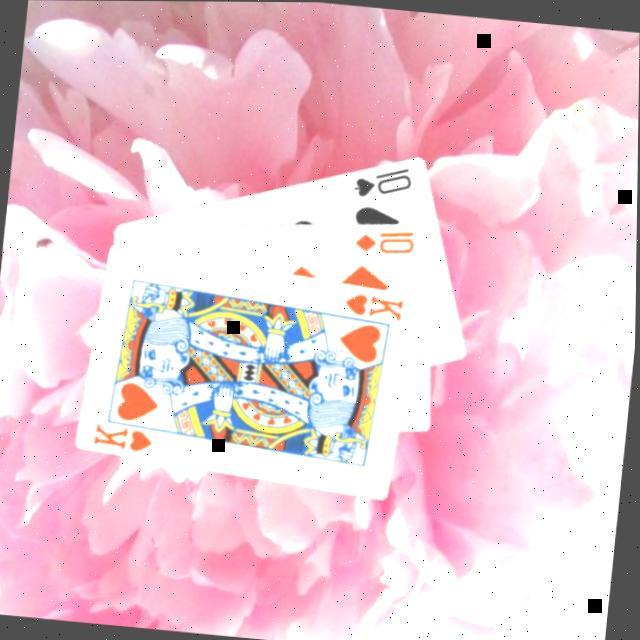10D: (353, 222, 420, 258)
10S: (351, 159, 418, 204)
KH: (92, 419, 159, 455), (341, 288, 407, 323)
